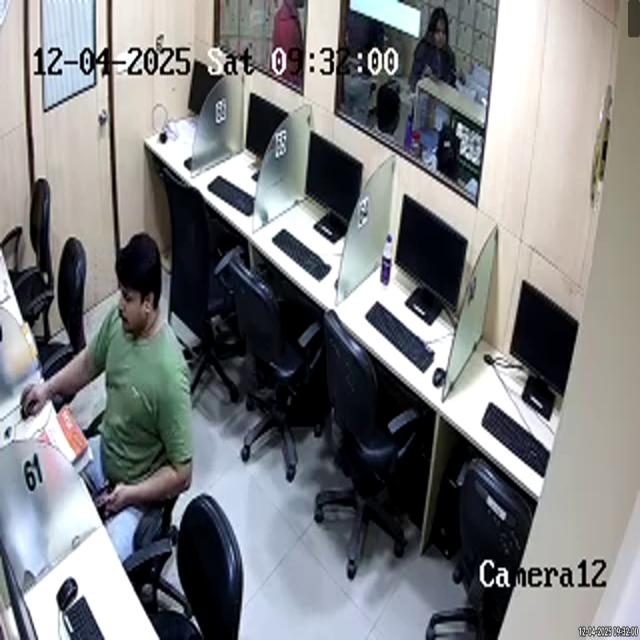phone: (98, 482, 122, 509)
